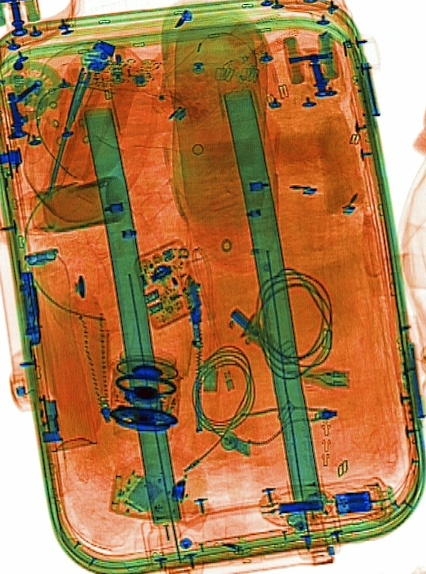pressure: (16, 223, 99, 452)
